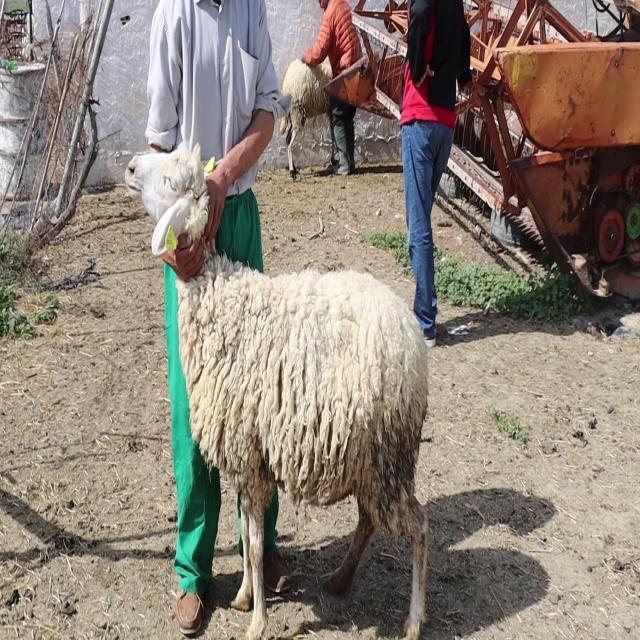Score_4: (126, 143, 428, 639)
